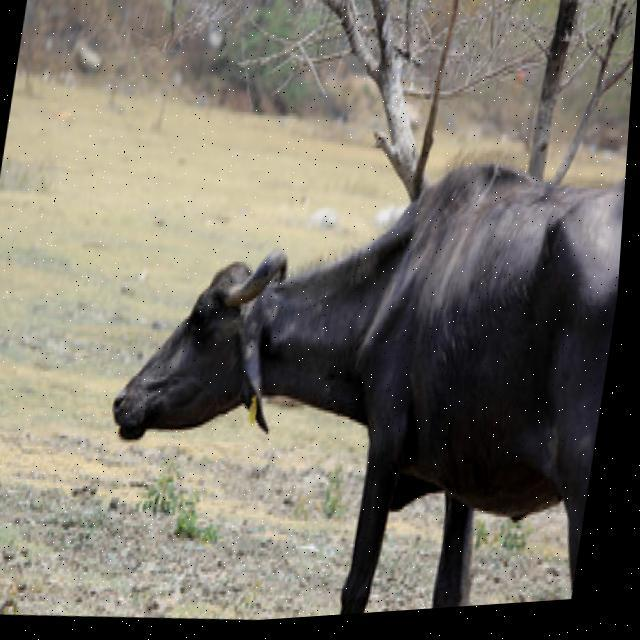Buffalo: (75, 99, 631, 632)
